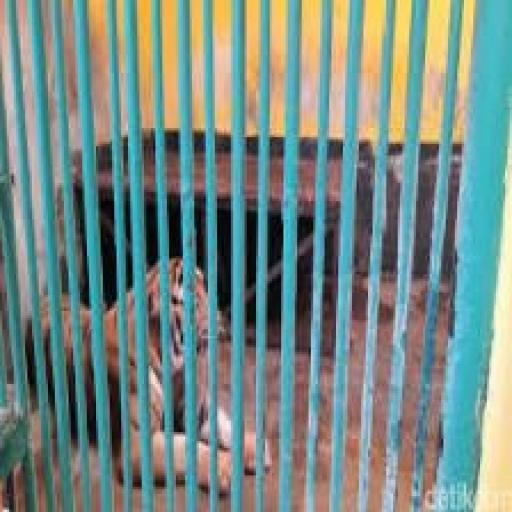Tiger: (25, 240, 273, 493)
